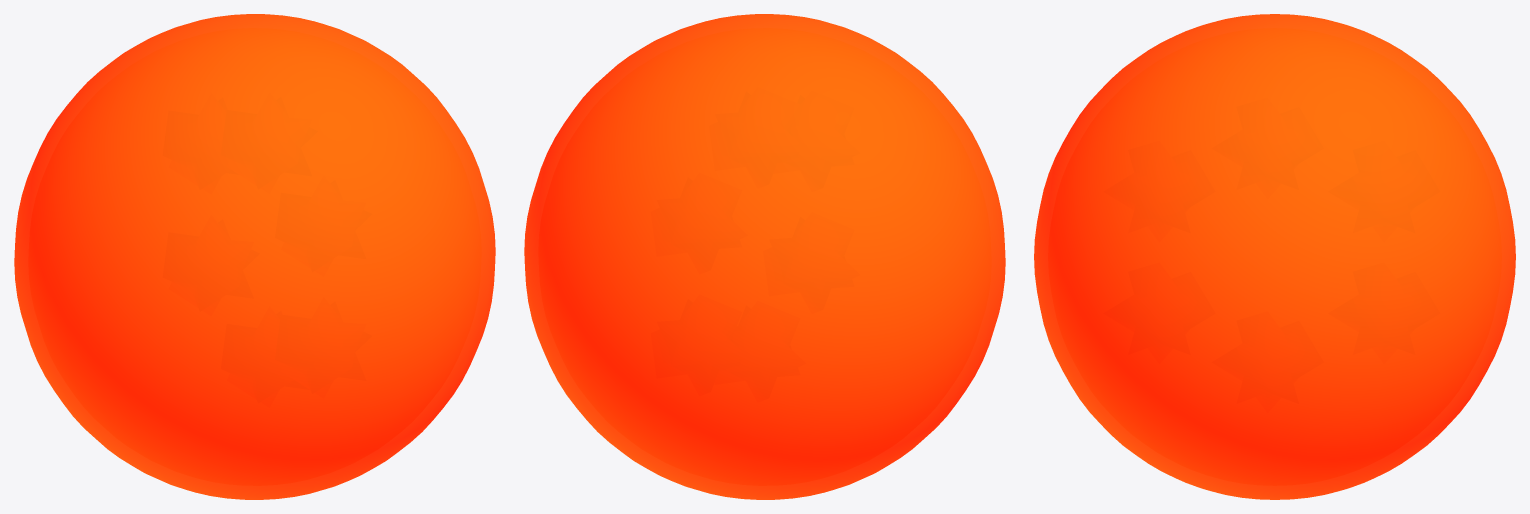
The model's file is dragon ball 6.glb.
The picture shows the model from 3 angles, left to right: view 1: azimuth 30°, elevation 25°; view 2: azimuth 150°, elevation 25°; view 3: azimuth 270°, elevation 25°; orthographic projection.
Visible parts, largest first — view 1: Dragon ball 6; view 2: Dragon ball 6; view 3: Dragon ball 6.
Boxes of the visible parts, x1=… form: Dragon ball 6: x1=14, y1=14, x2=495, y2=499; Dragon ball 6: x1=524, y1=14, x2=1005, y2=499; Dragon ball 6: x1=1034, y1=14, x2=1515, y2=499.
Bounding box in the file's own units: 4.28 × 4.34 × 4.28.
